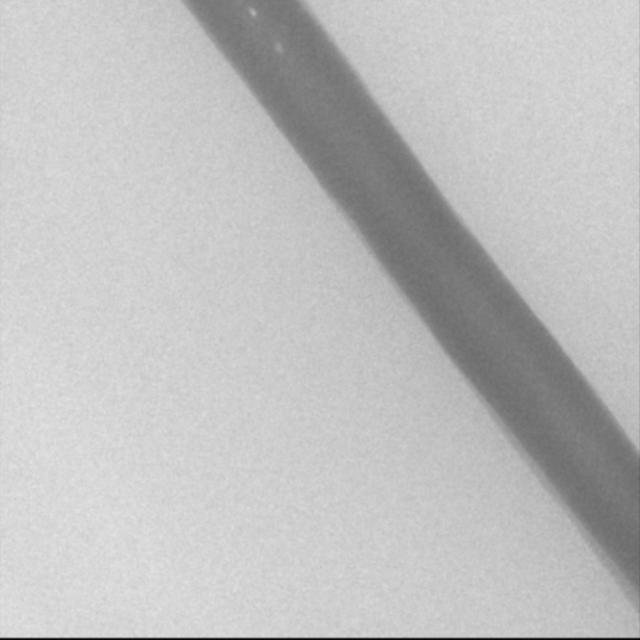air hole: (272, 40, 284, 54), (248, 7, 258, 19)
